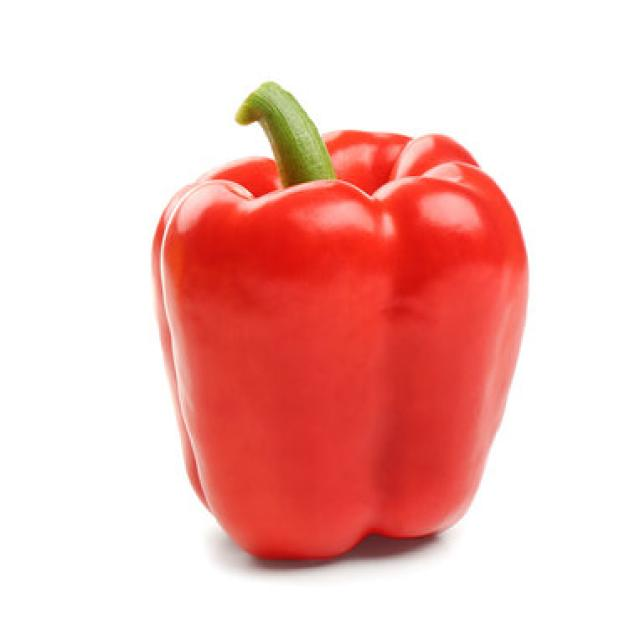Bell Pepper: (149, 80, 530, 562)
